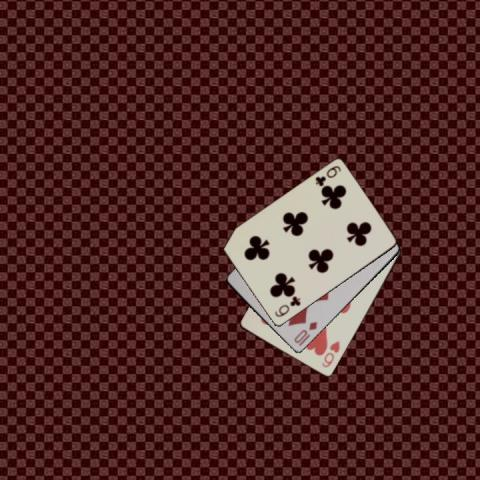10d: (290, 318, 318, 344)
6c: (271, 293, 302, 319), (312, 163, 342, 188)
6h: (319, 338, 341, 369)
